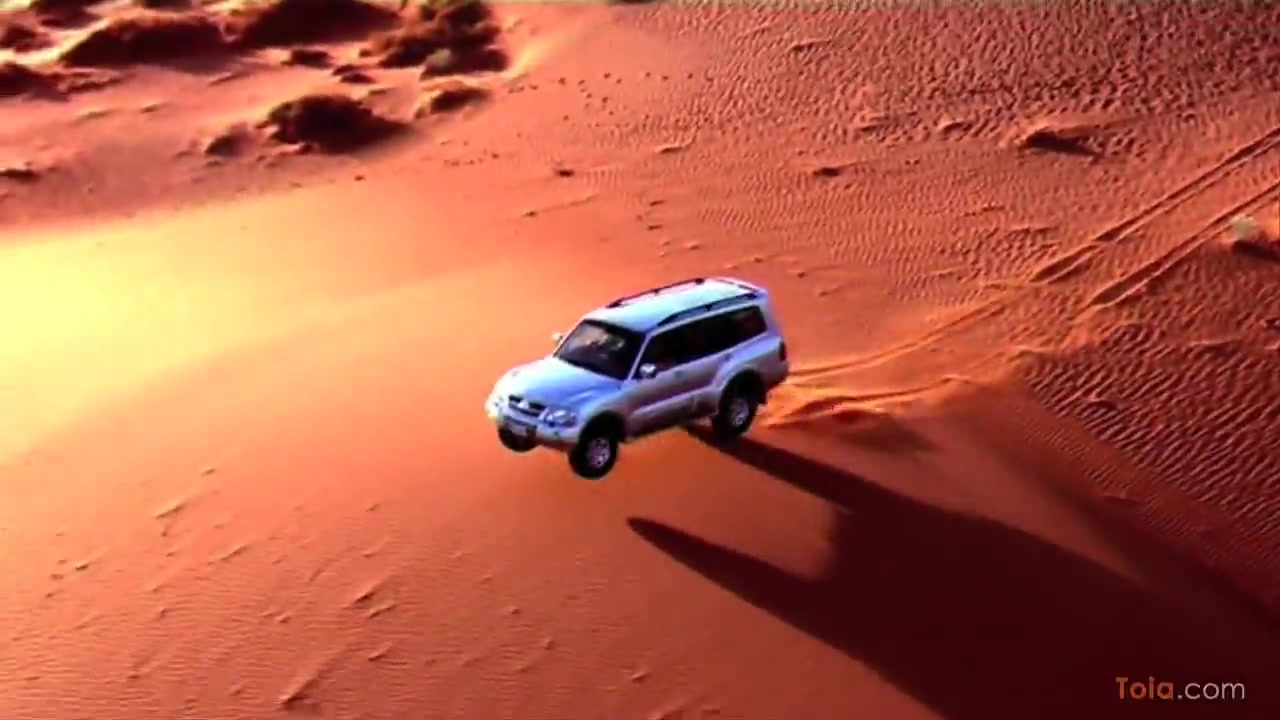car: (484, 270, 801, 481)
